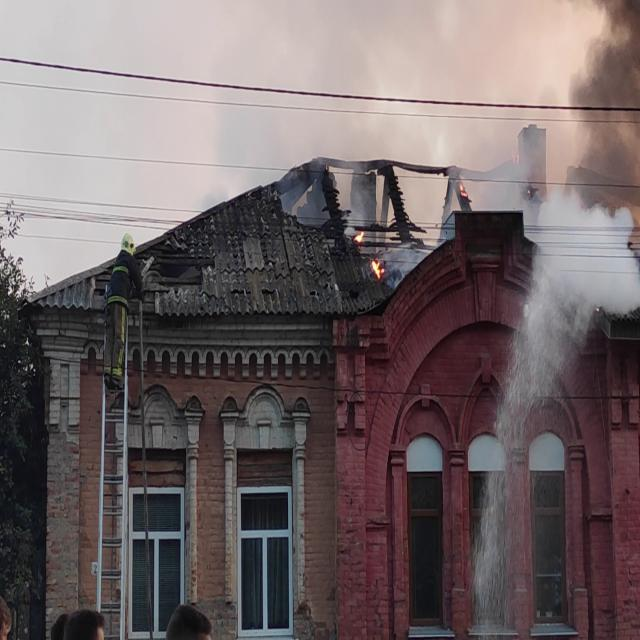smoke: (579, 0, 640, 231)
